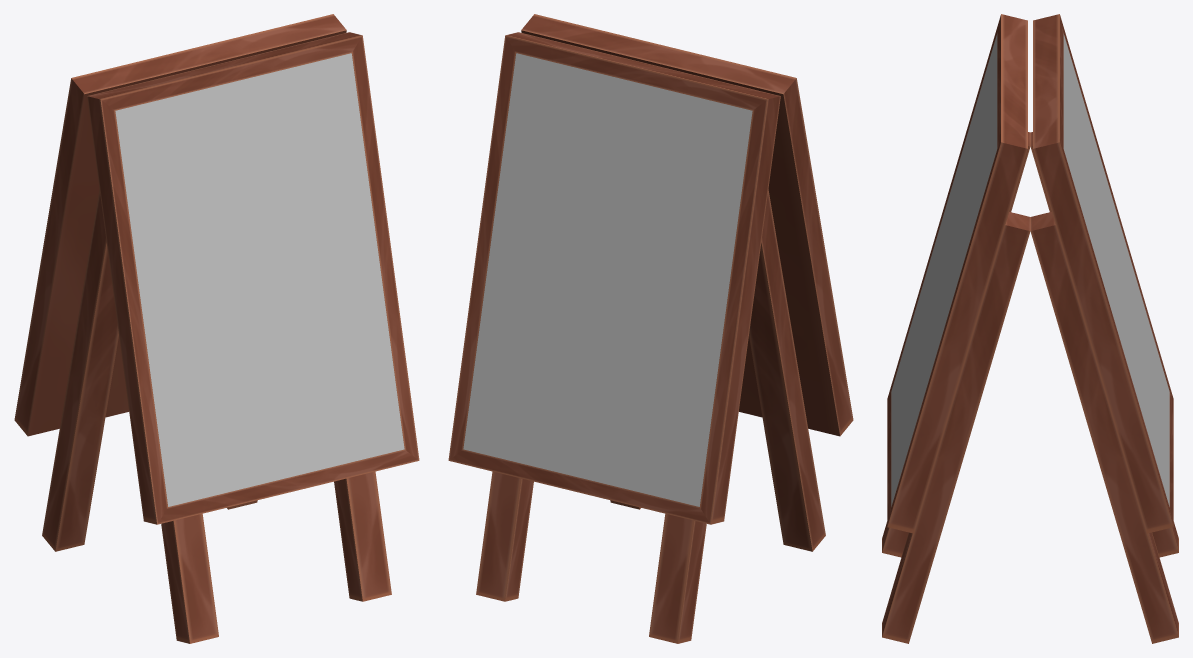
The model's file is jiedao_BJ_033.fbx.
3 views of the same model, side by side, from view 1: azimuth 30°, elevation 25°; view 2: azimuth 150°, elevation 25°; view 3: azimuth 270°, elevation 25° (orthographic).
Parts seen in each view (by area): view 1: BJ033; view 2: BJ033; view 3: BJ033.
Boxes of the visible parts, <box> form: BJ033: <box>14,14,419,643</box>; BJ033: <box>448,14,853,643</box>; BJ033: <box>882,14,1178,643</box>.
Size of the model in its own units: 40.79 by 39.88 by 76.52.
